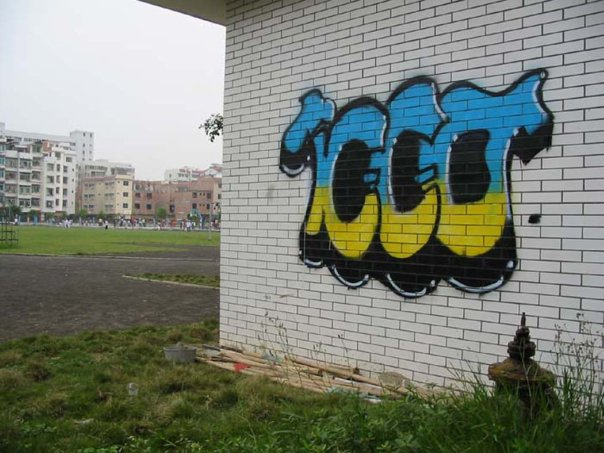graffity: (268, 63, 565, 307)
